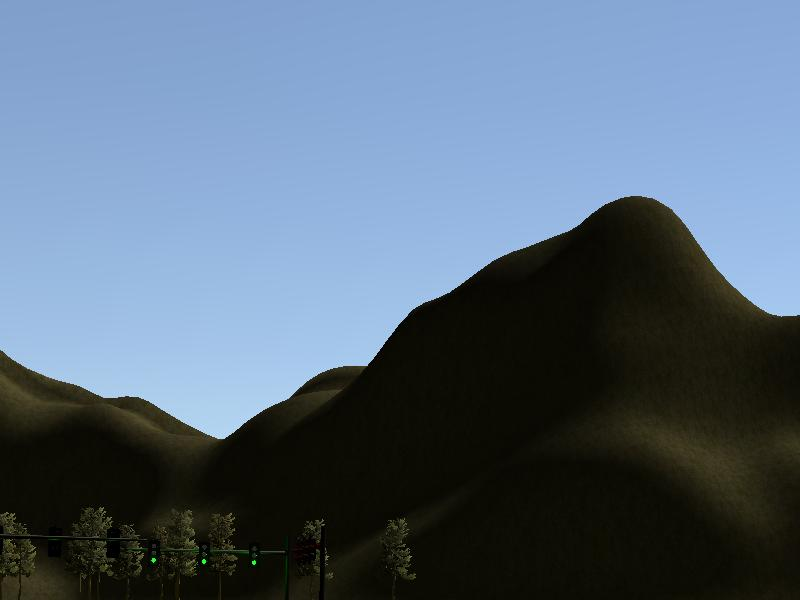Green: (249, 540, 261, 567), (199, 540, 209, 568), (150, 540, 159, 566)
